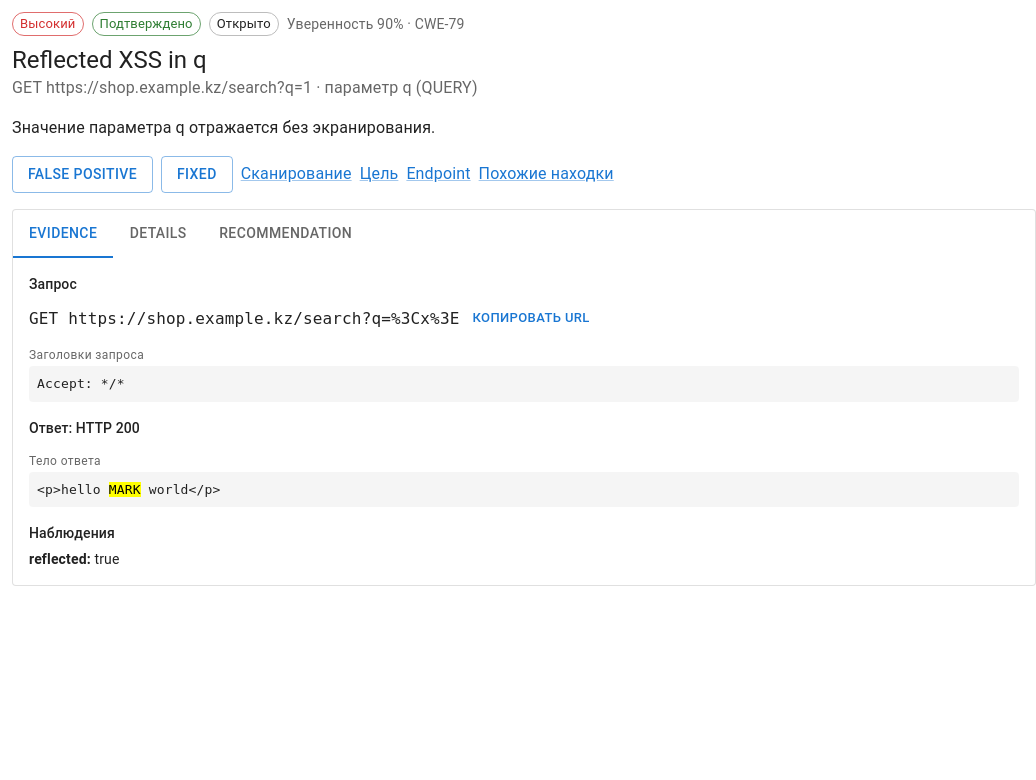
Test: FindingDetailPage › marks a finding as false positive and offers Reopen afterwards
The width and height of the screenshot is (1036, 780).
Click the button "False positive".
click(82, 174)  # box [12, 156, 153, 192]
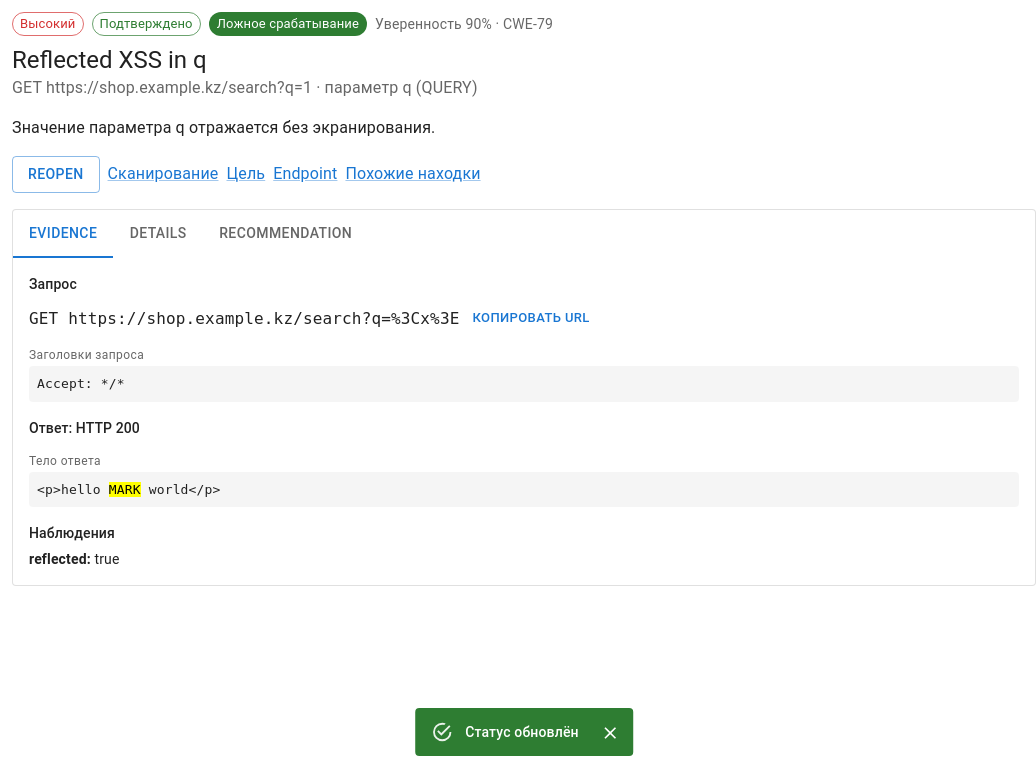
Expected: the text "Ложное срабатывание" is shown, [209, 14, 367, 34]
Expected: the button "Reopen" is shown, [12, 156, 100, 192]
Expected: the button "Fixed" is gone
